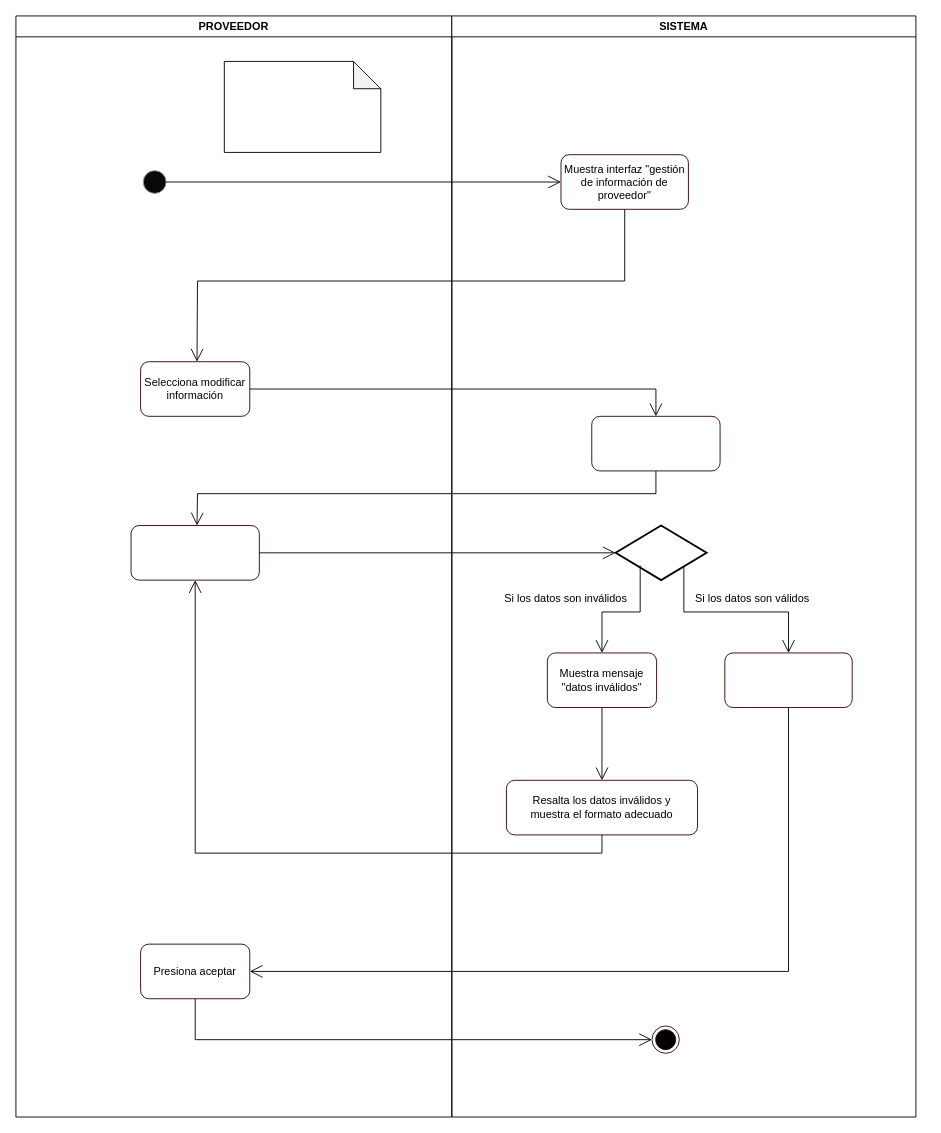
Image size: 941x1133. Some labels were removed from this diagram. The centre of each missing label's shape, as x and y in pixels:
Este flujo se inicia cuando el proveedor selecciona gestión de información: (302,106)
Ingresa datos: (194,552)
Muestra interfaz "formulario datos de información": (655,443)
Muestra mensaje "operación realizada con éxito": (788,680)
